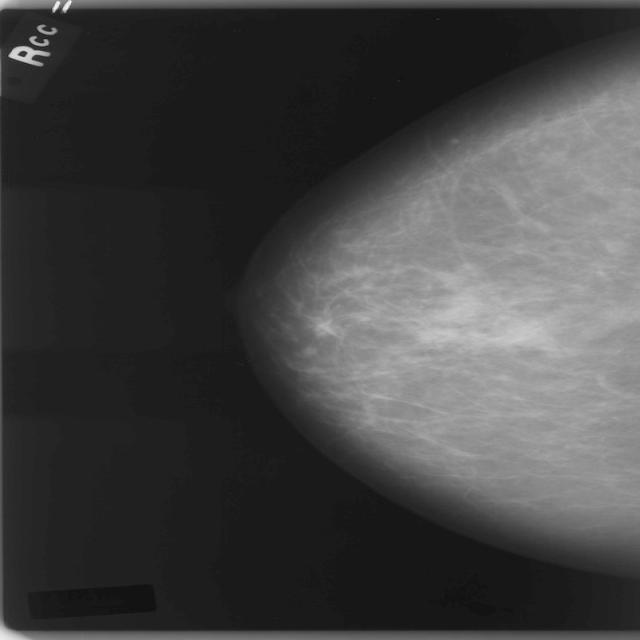tumour: (310, 316, 338, 338)
